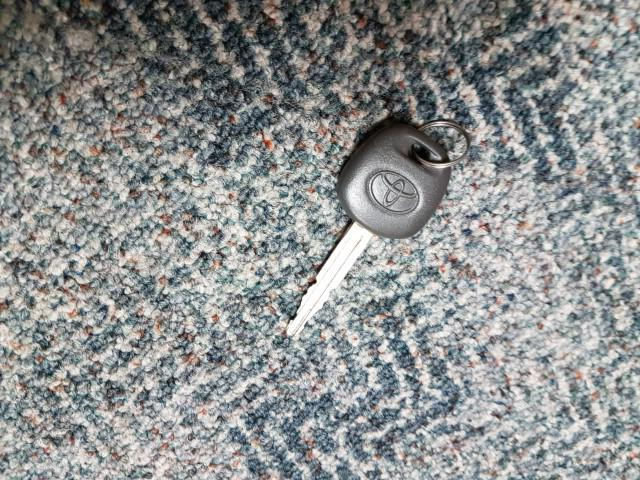key: (278, 117, 458, 339)
